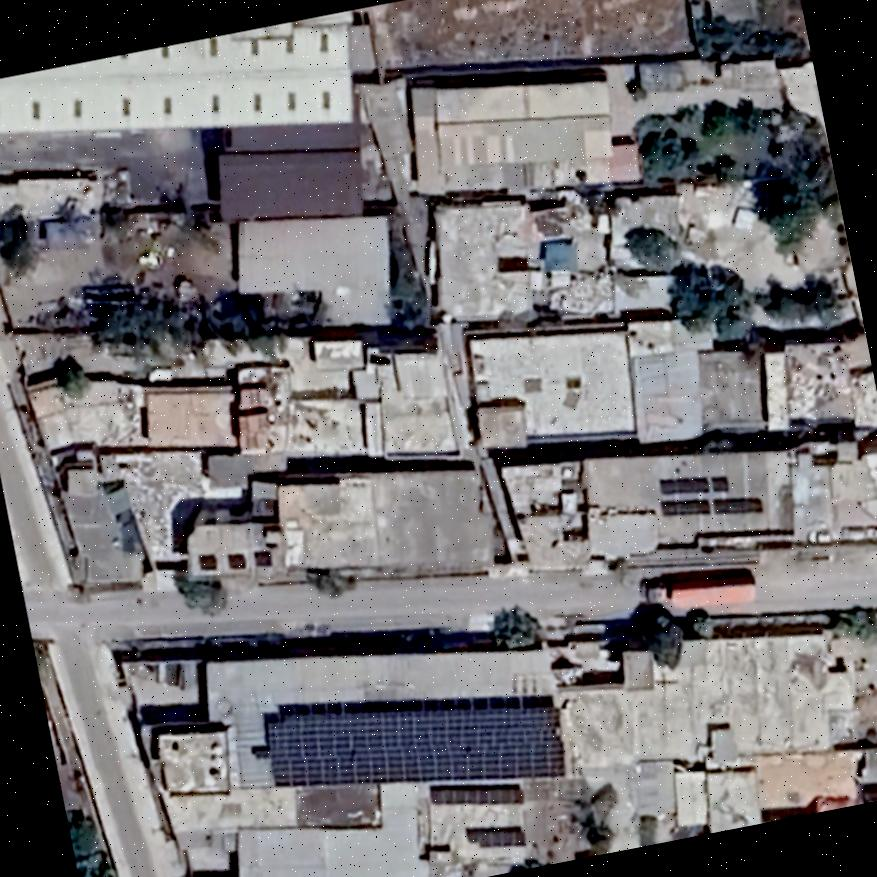Solarpanel: (259, 700, 566, 789), (653, 491, 766, 520), (421, 779, 529, 809), (655, 465, 734, 496), (471, 823, 530, 853)
